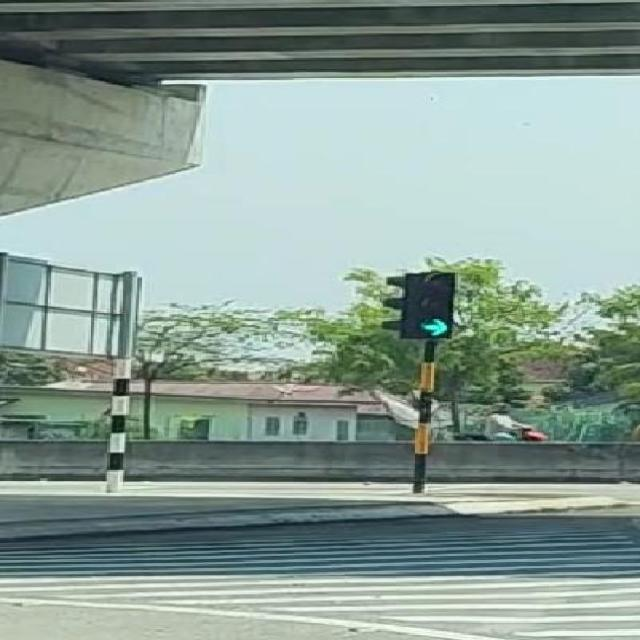green_light: (415, 270, 455, 338)
